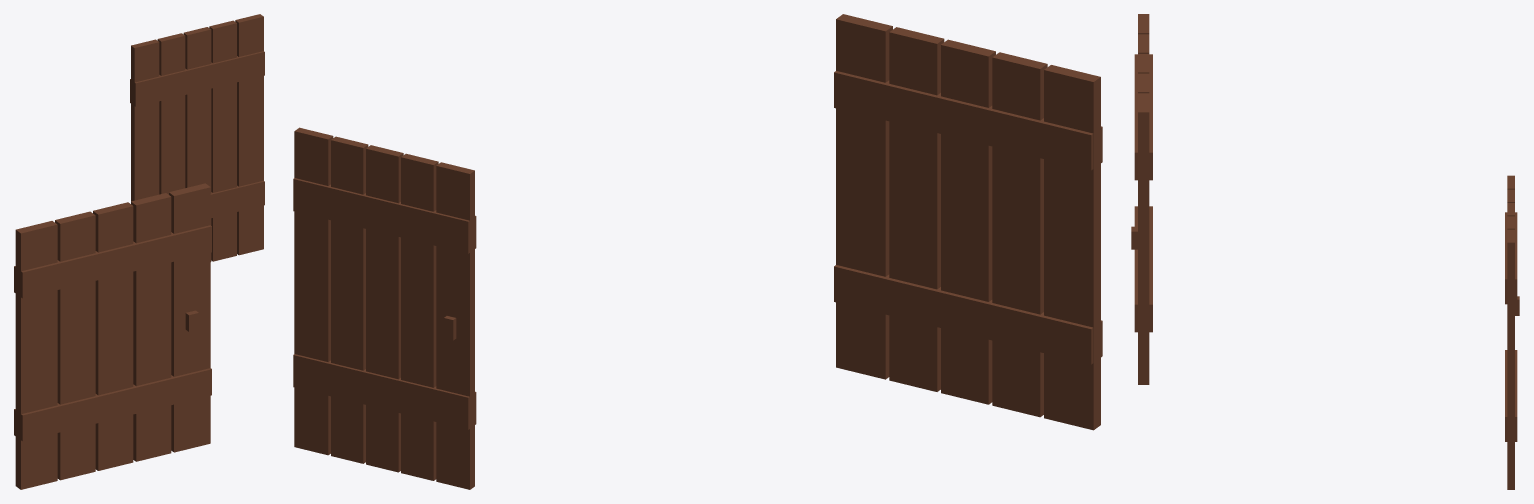
File: door_closed.glb
3 views of the same model, side by side, from view 1: azimuth 30°, elevation 25°; view 2: azimuth 150°, elevation 25°; view 3: azimuth 270°, elevation 25° (orthographic). The views are drawn at different scales.
Parts seen in each view (by area): view 1: Door.Closed_tcollider.001, Door.Closed_tcollider; view 2: Door.Closed_tcollider.001, Door.Closed_tcollider; view 3: Door.Closed_tcollider.001, Door.Closed_tcollider.
Part boxes in pixels (left/top/right/bottom): Door.Closed_tcollider.001: left=14, top=183, right=211, bottom=489; Door.Closed_tcollider: left=130, top=14, right=264, bottom=261; Door.Closed_tcollider.001: left=834, top=14, right=1102, bottom=430; Door.Closed_tcollider: left=293, top=127, right=476, bottom=489; Door.Closed_tcollider.001: left=1131, top=14, right=1152, bottom=384; Door.Closed_tcollider: left=1505, top=175, right=1519, bottom=489.
Size of the model in its own units: 1.45 by 0.8503 by 1.1.
